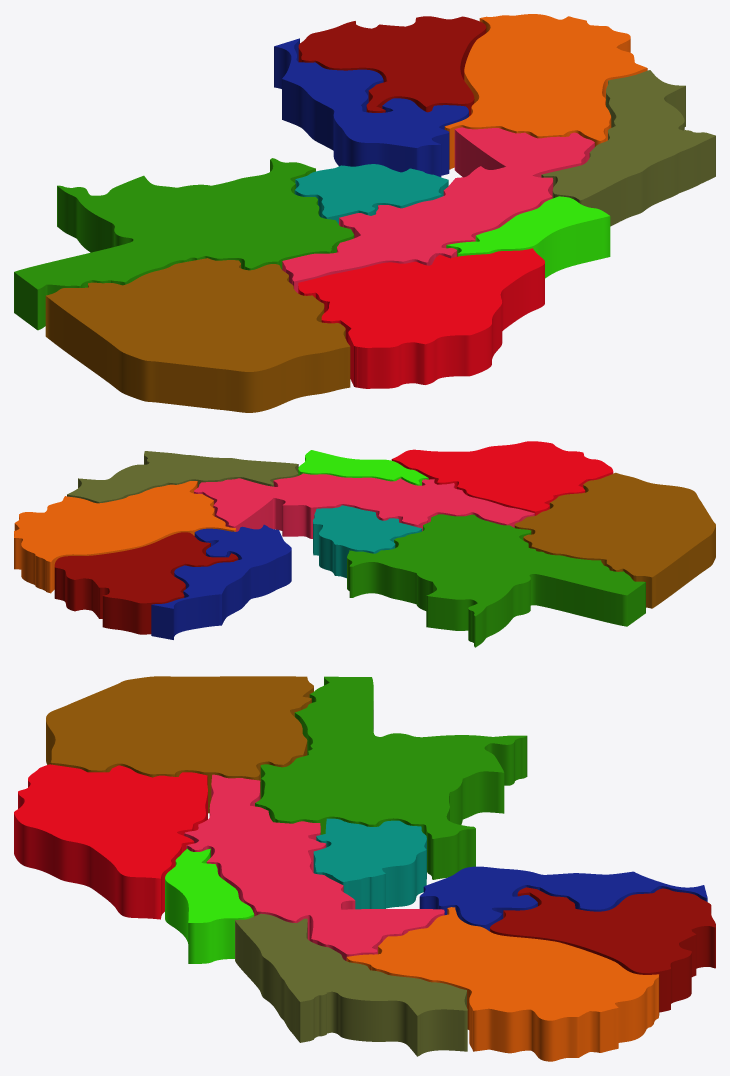
File: dress-01.glb
3 renders of one model, top to bottom at view 1: azimuth 30°, elevation 25°; view 2: azimuth 150°, elevation 25°; view 3: azimuth 270°, elevation 25°, orthographic. The views are drawn at different scales.
Visible parts, largest first — view 1: Curve.048, Curve.047, Curve, Curve.050, Curve.002, Curve.051, Curve.052, Curve.049, Curve.004, Curve.003; view 2: Curve.047, Curve.048, Curve.050, Curve.002, Curve.049, Curve, Curve.052, Curve.051, Curve.003, Curve.004; view 3: Curve.047, Curve.002, Curve.048, Curve, Curve.051, Curve.050, Curve.049, Curve.052, Curve.003, Curve.004.
Part boxes in pixels (<box>): Curve.048: <box>45,258,350,412</box>; Curve.047: <box>14,158,354,330</box>; Curve: <box>298,248,544,388</box>; Curve.050: <box>282,127,594,293</box>; Curve.002: <box>444,14,647,169</box>; Curve.051: <box>541,70,715,226</box>; Curve.052: <box>274,38,468,176</box>; Curve.049: <box>298,16,486,116</box>; Curve.004: <box>446,196,610,278</box>; Curve.003: <box>294,164,448,224</box>; Curve.047: <box>347,514,645,647</box>; Curve.048: <box>514,472,715,608</box>; Curve.050: <box>194,473,534,538</box>; Curve.002: <box>14,481,235,593</box>; Curve.049: <box>54,532,238,634</box>; Curve: <box>391,441,613,515</box>; Curve.052: <box>151,524,291,639</box>; Curve.051: <box>67,451,298,503</box>; Curve.003: <box>313,505,422,578</box>; Curve.004: <box>298,450,428,485</box>; Curve.047: <box>255,676,527,879</box>; Curve.002: <box>346,907,659,1061</box>; Curve.048: <box>46,676,313,813</box>; Curve: <box>14,764,207,919</box>; Curve.051: <box>235,913,467,1056</box>; Curve.050: <box>184,774,444,960</box>; Curve.049: <box>490,887,715,1012</box>; Curve.052: <box>419,866,707,931</box>; Curve.003: <box>313,818,426,909</box>; Curve.004: <box>165,848,254,963</box>.
Size of the model in its own units: 2.53 by 0.14 by 2.18.
